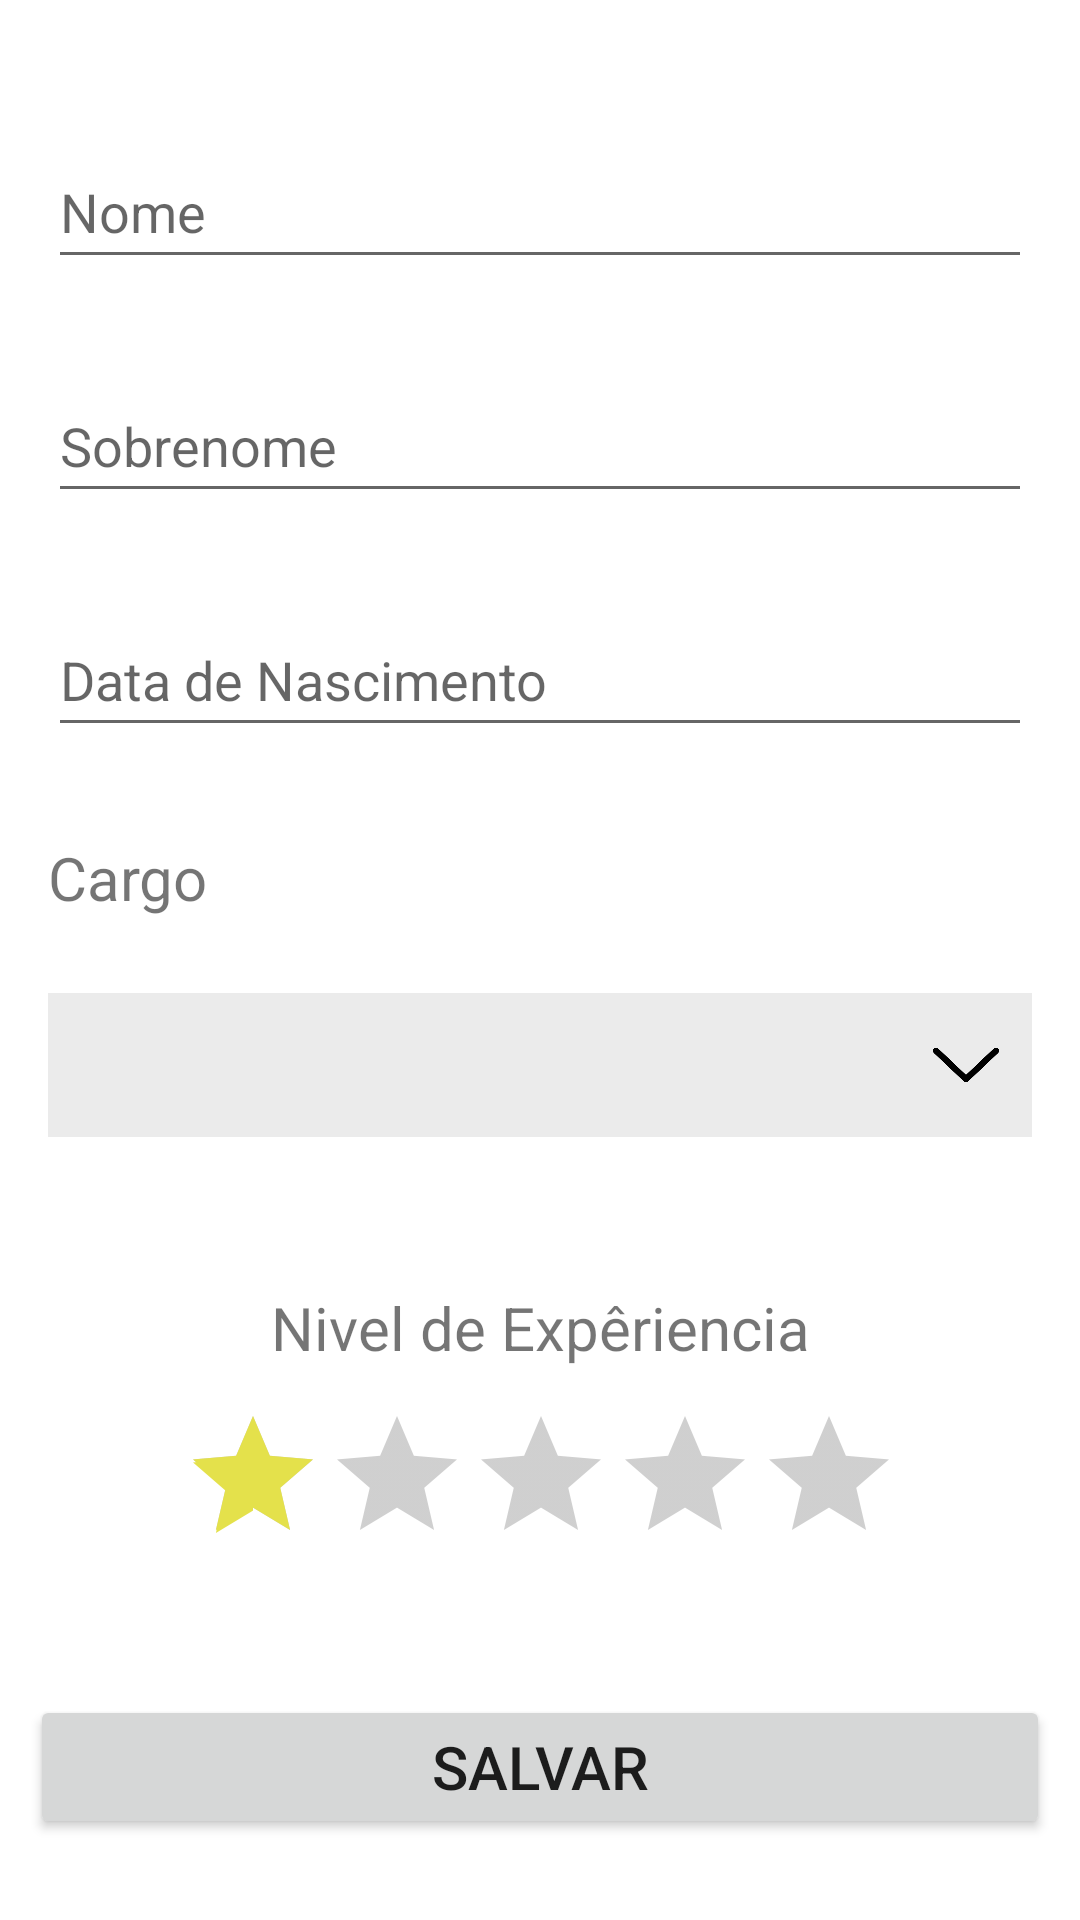

Where icons sit on this 1080x1920 app screen, as detection(x1, y1, x2, y2):
Seta Spinner: detection(933, 1048, 999, 1082)
